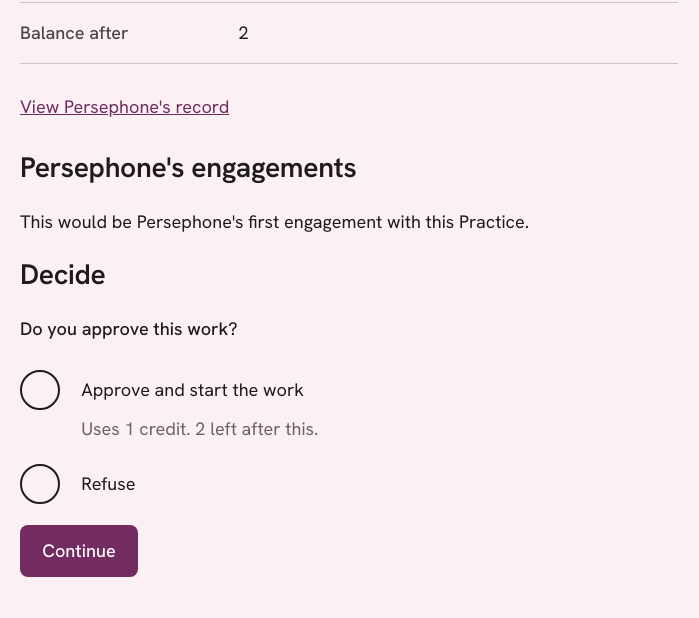
Test case: the approval screen › refuses to submit a refusal with no reason, client-side, before any request
(page scrolled)
Click the radio button labelled "Refuse" at (40, 484), box [20, 464, 60, 504]
(page scrolled)
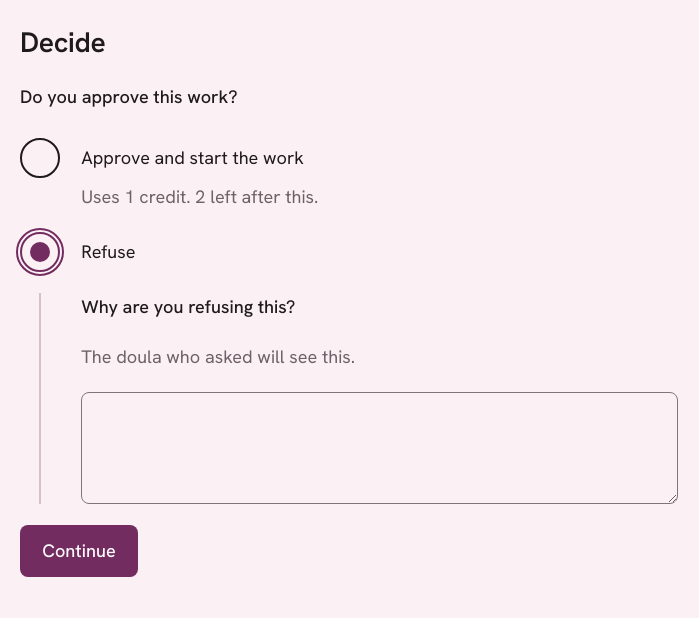
Click the button "Continue" at (79, 551), box [20, 525, 138, 577]
(page scrolled)
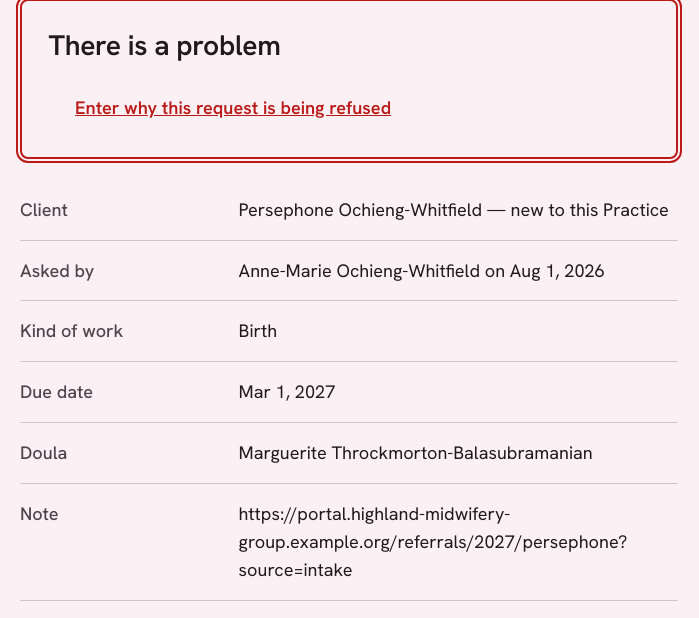
Result: the link "Enter why this request is being refused" is shown at [75, 96, 391, 119]
